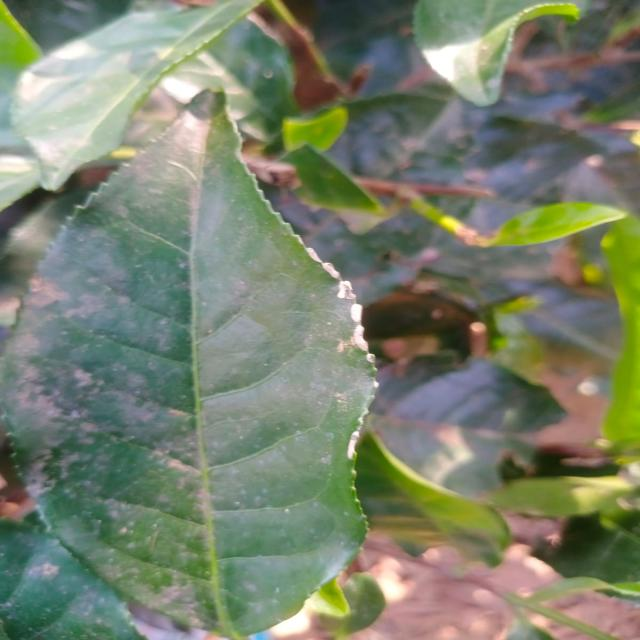Category D(7+ days, Not for Tea): (0, 77, 381, 640)
